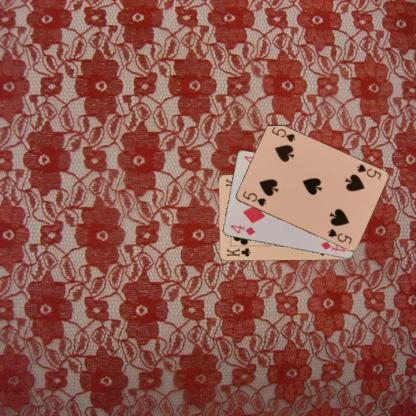4d: (228, 222, 256, 237)
5s: (354, 161, 383, 181), (240, 188, 267, 207)
Kc: (224, 246, 252, 258)
